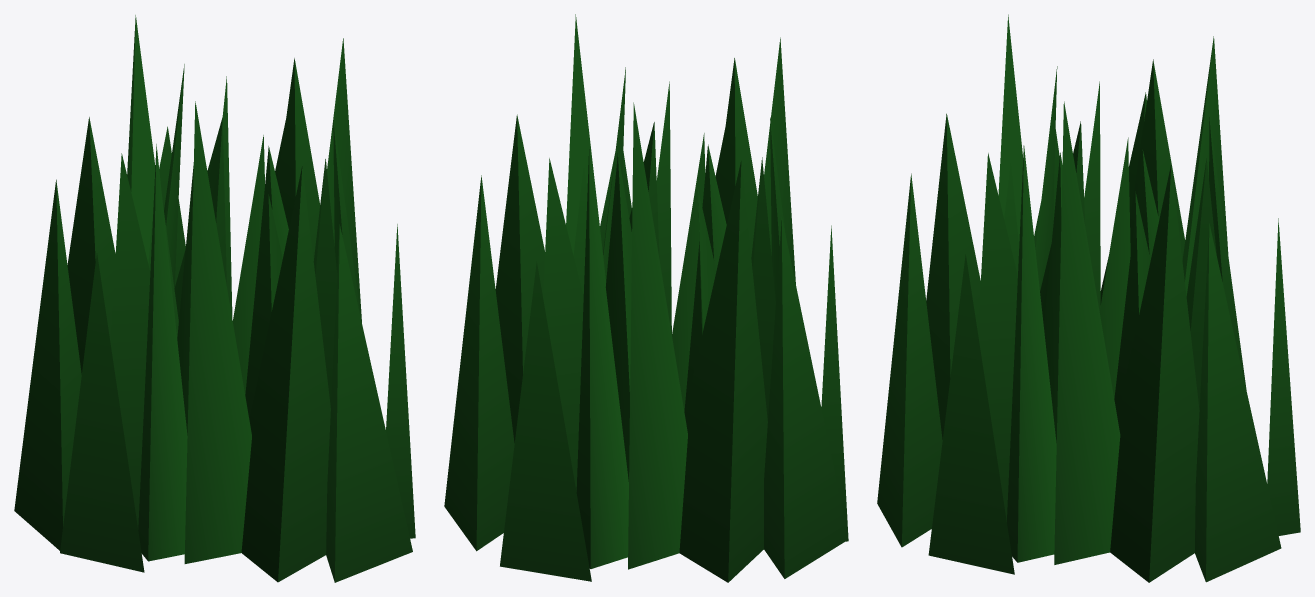
File: c_grass_ab.fbx
3 renders of one model, left to right at view 1: azimuth 30°, elevation 25°; view 2: azimuth 150°, elevation 25°; view 3: azimuth 270°, elevation 25°, orthographic.
Visible parts, largest first — view 1: c_grass_ab; view 2: c_grass_ab; view 3: c_grass_ab.
Boxes of the visible parts, x1,y1,x2,y2 form: c_grass_ab: (14,15,415,582); c_grass_ab: (444,14,848,582); c_grass_ab: (877,14,1300,582).
Bounding box in the file's own units: 0.6736 × 0.8618 × 0.7299.
